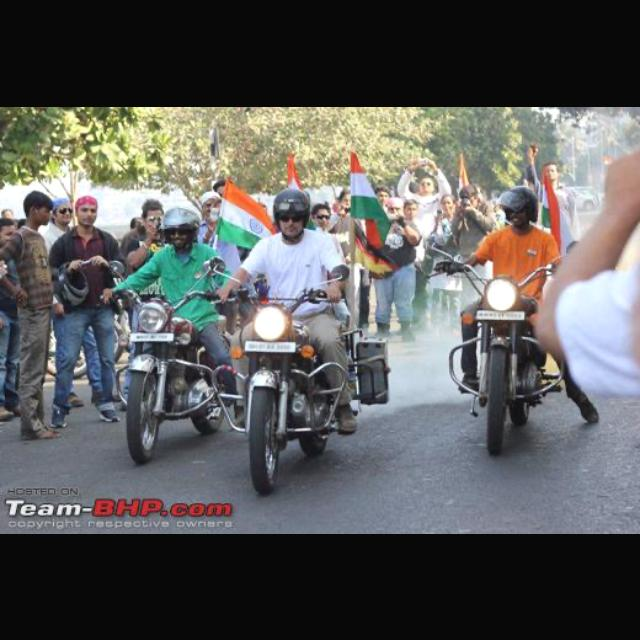With Helmet: (264, 177, 316, 245), (495, 175, 543, 233), (154, 200, 202, 252)
